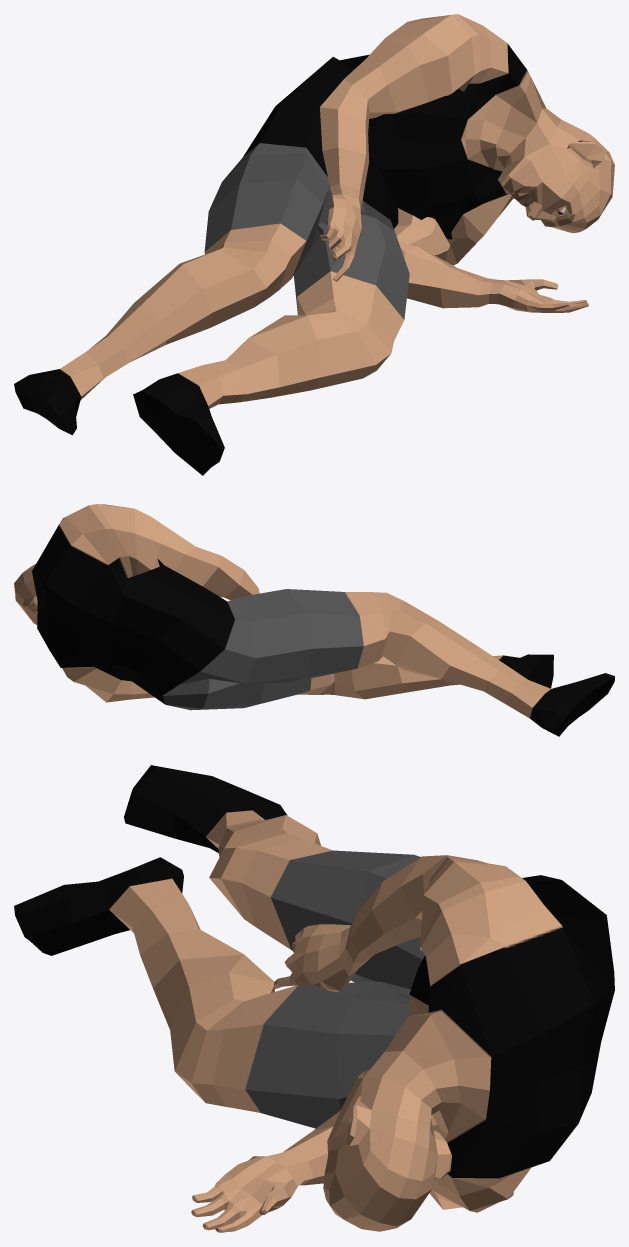
Rendered from PlayerDead(73).obj.
3 views of the same model, one above another, from view 1: azimuth 30°, elevation 25°; view 2: azimuth 150°, elevation 25°; view 3: azimuth 270°, elevation 25° (orthographic). The views are drawn at different scales.
Parts seen in each view (by area): view 1: Plane002; view 2: Plane002; view 3: Plane002.
Boxes of the visible parts, x1,y1,x2,y2 form: Plane002: [14, 14, 614, 475]; Plane002: [14, 504, 614, 736]; Plane002: [14, 765, 614, 1232].
Size of the model in its own units: 1564 by 566 by 890.
